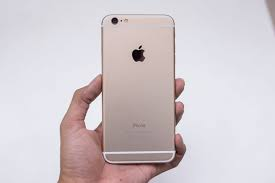iphone: (97, 10, 177, 166)
